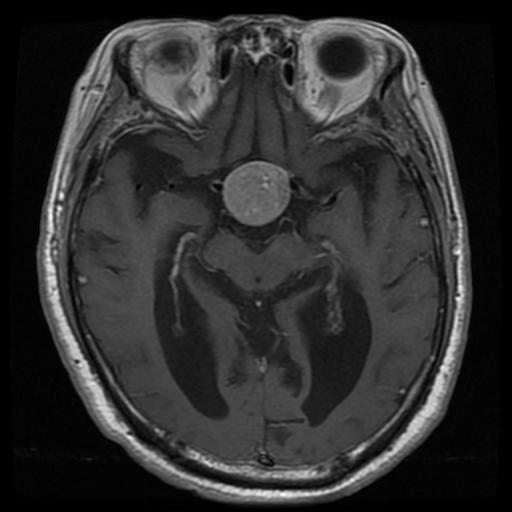Tumour-Pituitary: (222, 161, 295, 232)
